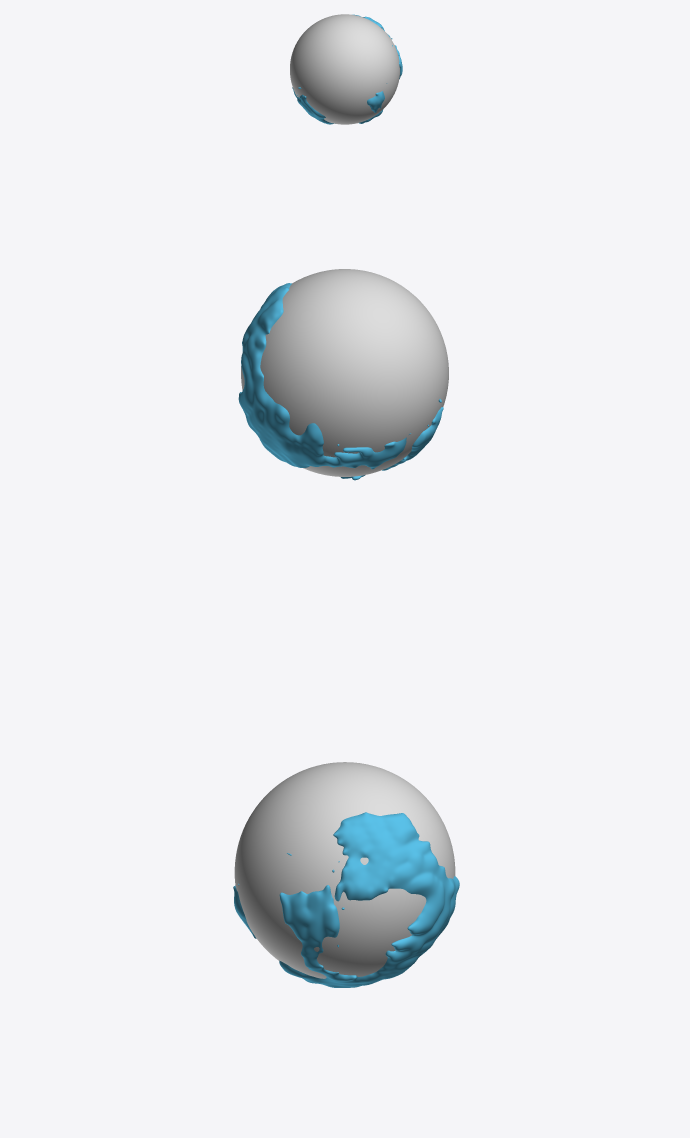
File: planet1.fbx
3 renders of one model, top to bottom at view 1: azimuth 30°, elevation 25°; view 2: azimuth 150°, elevation 25°; view 3: azimuth 270°, elevation 25°, orthographic. The views are drawn at different scales.
Visible parts, largest first — view 1: Cube; view 2: Cube; view 3: Cube.
Part boxes in pixels (x1=…): Cube: x1=290, y1=14, x2=402, y2=124; Cube: x1=238, y1=269, x2=448, y2=480; Cube: x1=233, y1=762, x2=459, y2=987.
Size of the model in its own units: 1007 by 194 by 535.
